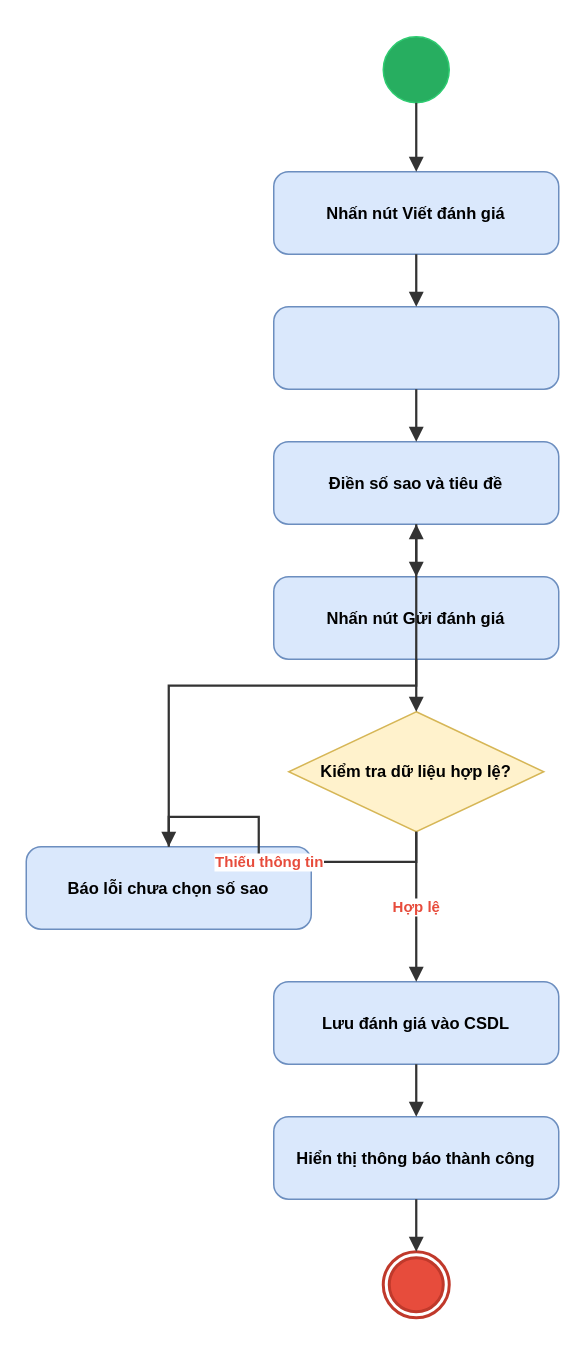
The diagram is 585 pixels wide and 1346 high, and some of its shapes have lost their labels. Here are the shapes that lost their labels. From the top down, the box of each, then its label:
(382, 35, 449, 103): Khách hàng đã mua hàng
(272, 305, 559, 389): Mở form Viết đánh giá
(381, 1250, 450, 1318): Kết thúc
